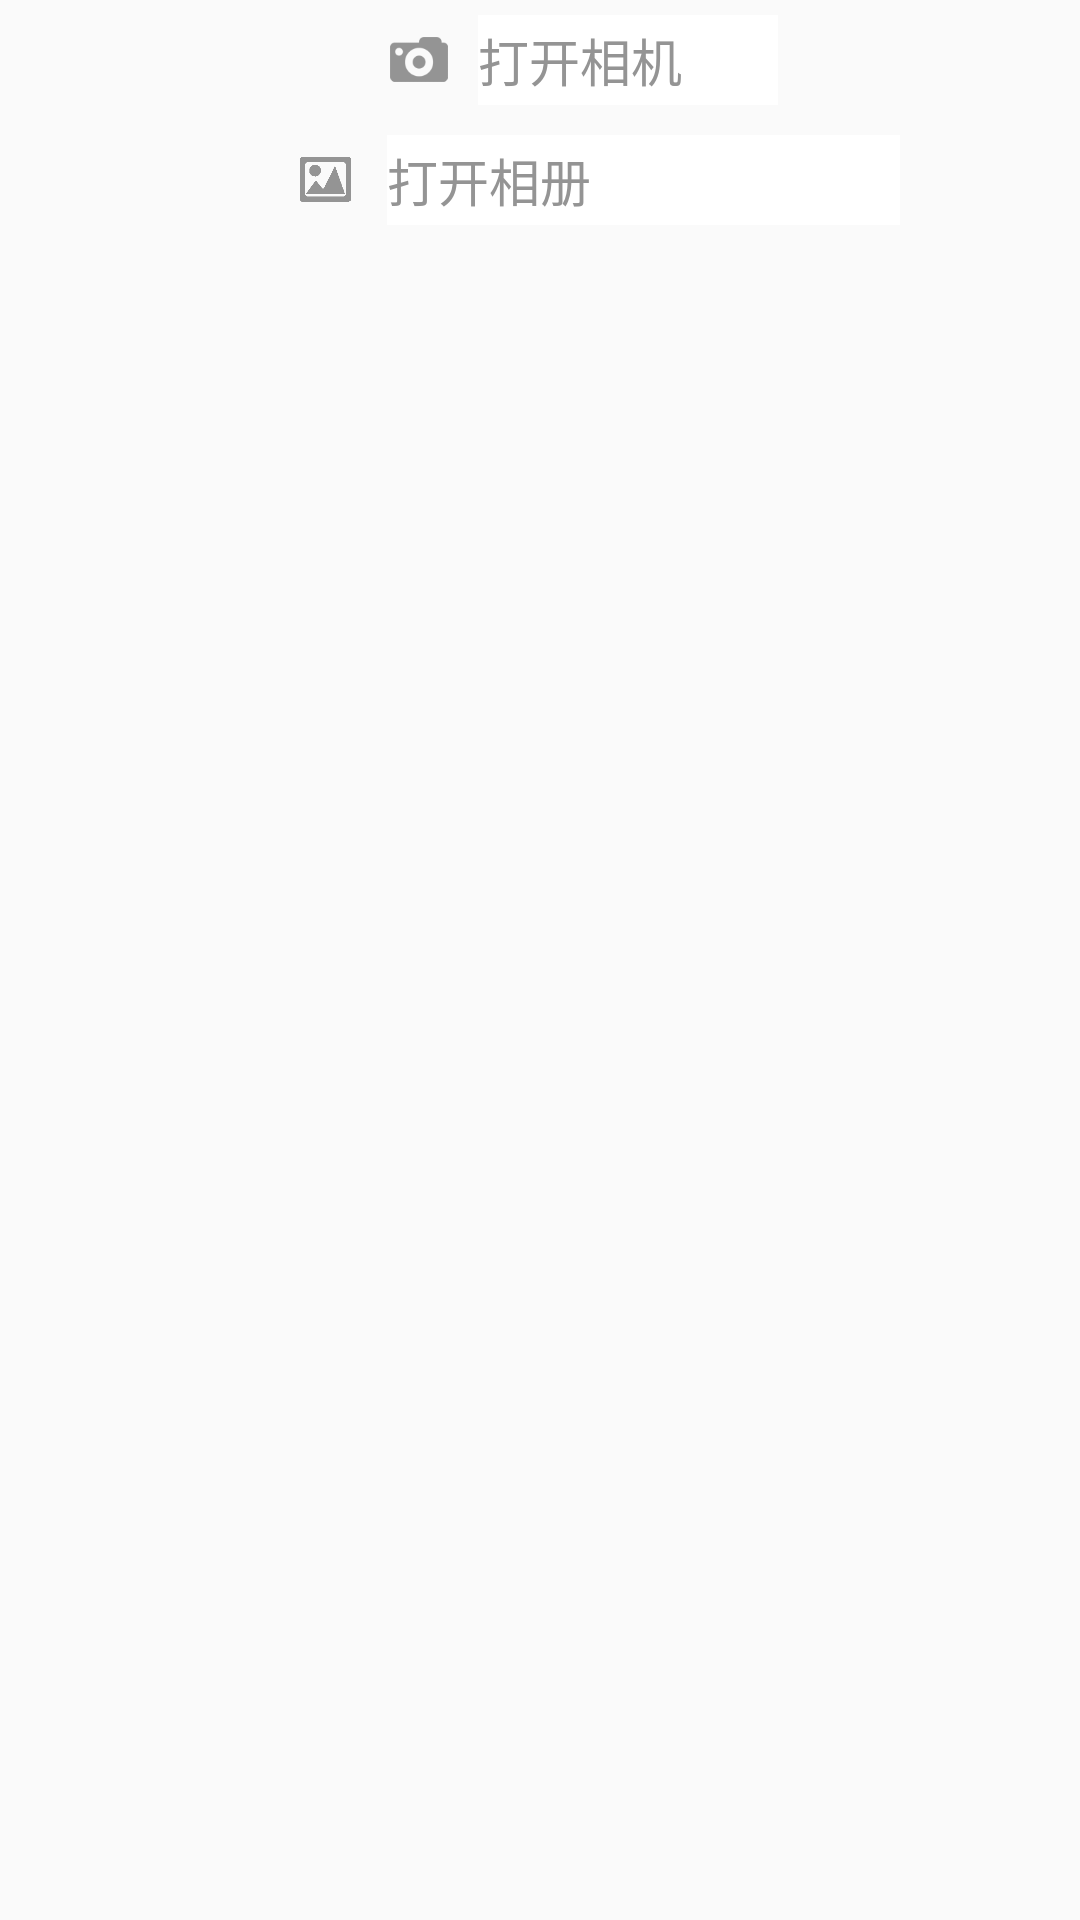

Screen size 1080*1920. Icon name, then its center in pixels as (x,y):
alb: (325,179)
camera: (419,59)
